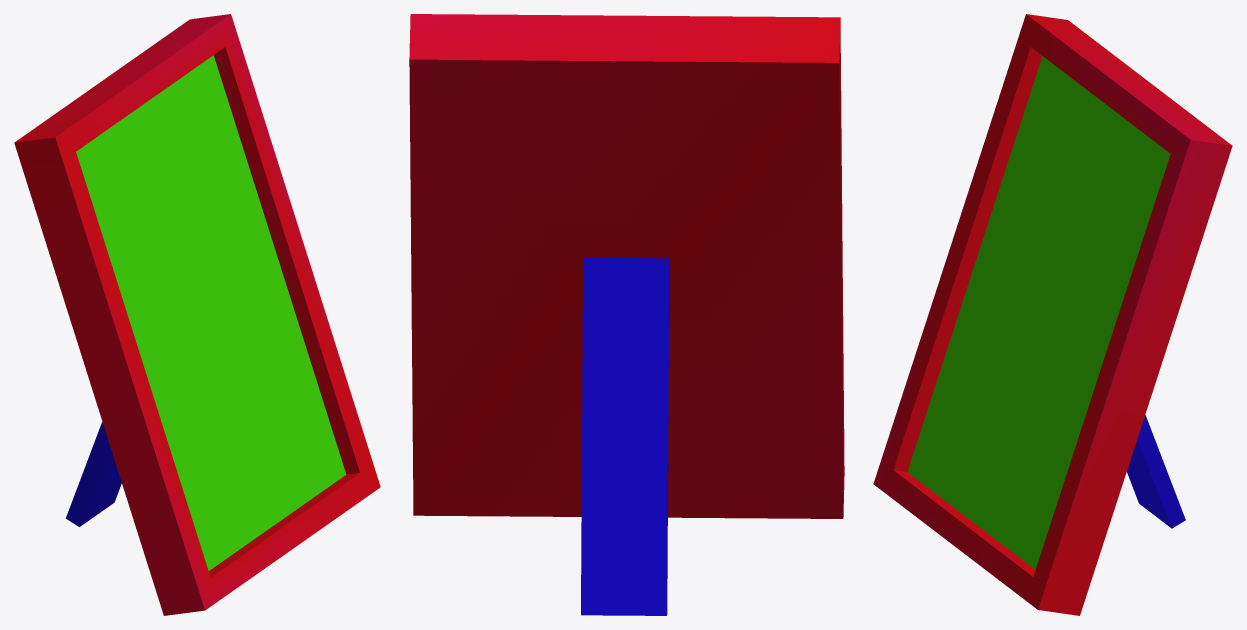
File: pictureTall.fbx
3 views of the same model, side by side, from view 1: azimuth 30°, elevation 25°; view 2: azimuth 150°, elevation 25°; view 3: azimuth 270°, elevation 25° (orthographic). The views are drawn at different scales.
Parts seen in each view (by area): view 1: PictureTall; view 2: PictureTall; view 3: PictureTall.
Part boxes in pixels (x1,y1,x2,y2): PictureTall: [14, 14, 380, 615]; PictureTall: [409, 14, 844, 615]; PictureTall: [873, 14, 1232, 615].
Size of the model in its own units: 30.9 by 37.88 by 27.39.
